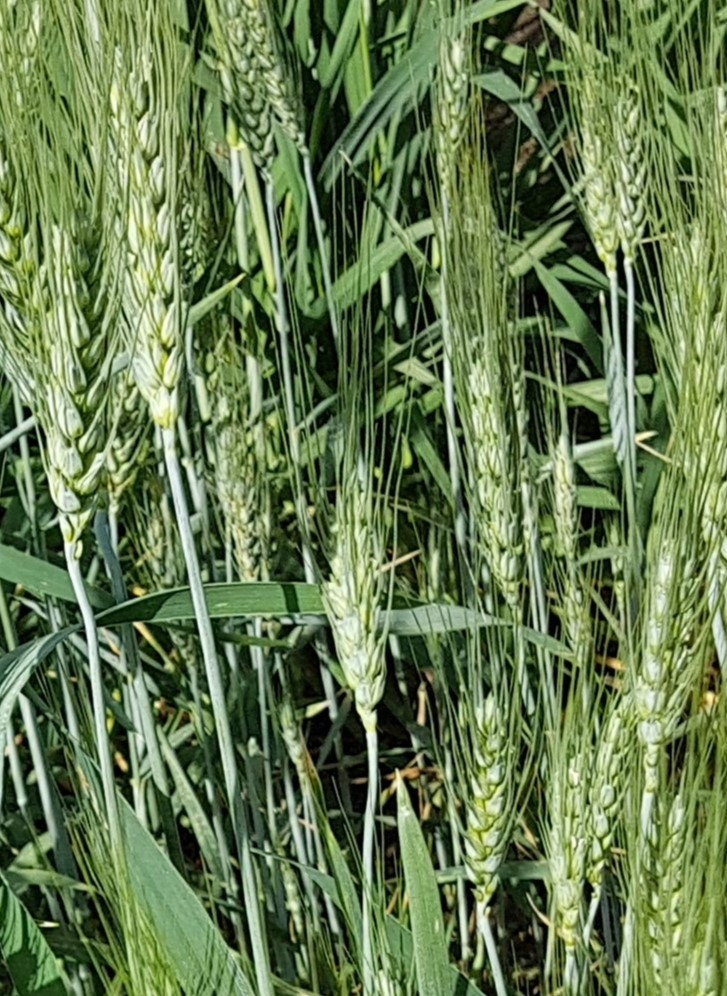Healthy Wheat: (95, 67, 213, 418), (428, 683, 537, 902), (444, 347, 536, 580)
